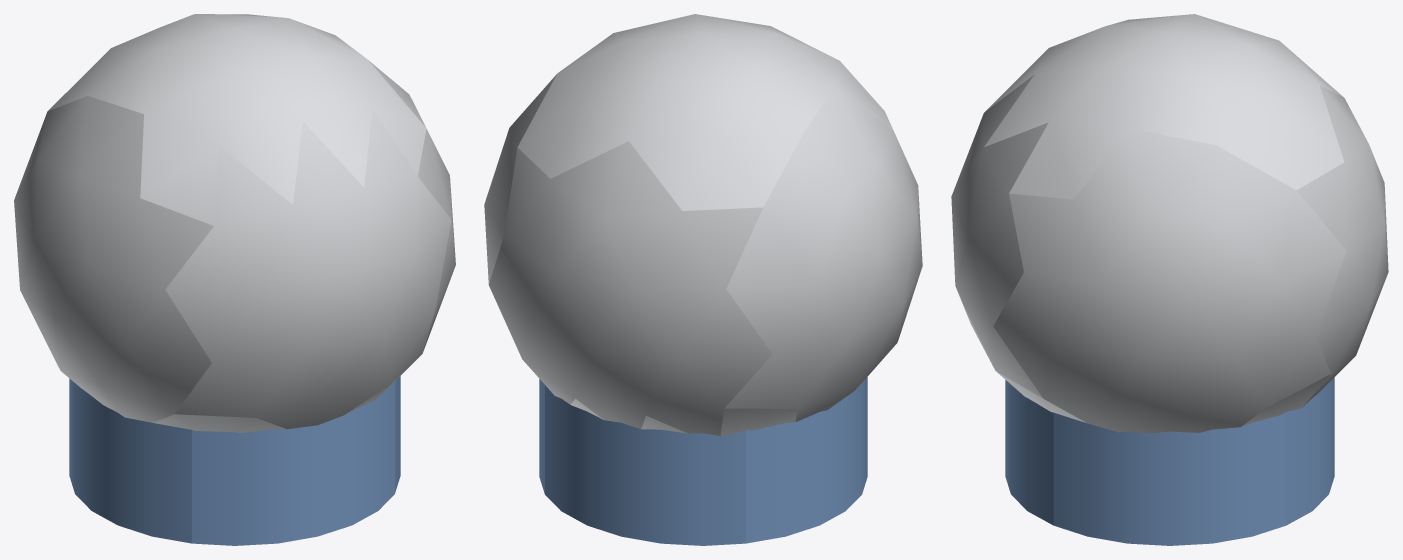
File: radome.glb
3 renders of one model, left to right at view 1: azimuth 30°, elevation 25°; view 2: azimuth 150°, elevation 25°; view 3: azimuth 270°, elevation 25°, orthographic.
Visible parts, largest first — view 1: guam.layer; view 2: guam.layer; view 3: guam.layer.
Part boxes in pixels (x1,y1,x2,y2): guam.layer: (14, 14, 455, 545); guam.layer: (484, 14, 922, 545); guam.layer: (951, 14, 1388, 545).
Bounding box in the file's own units: 1.97 × 2.2 × 1.96.
